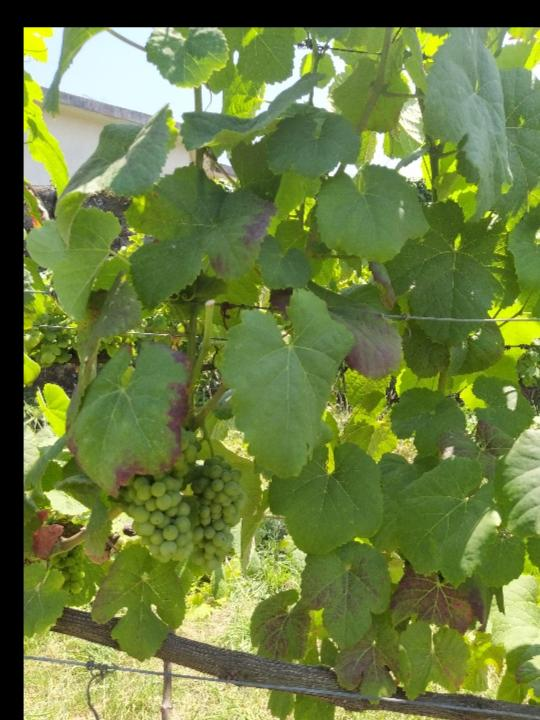grape: (124, 428, 202, 560), (195, 455, 248, 575)
